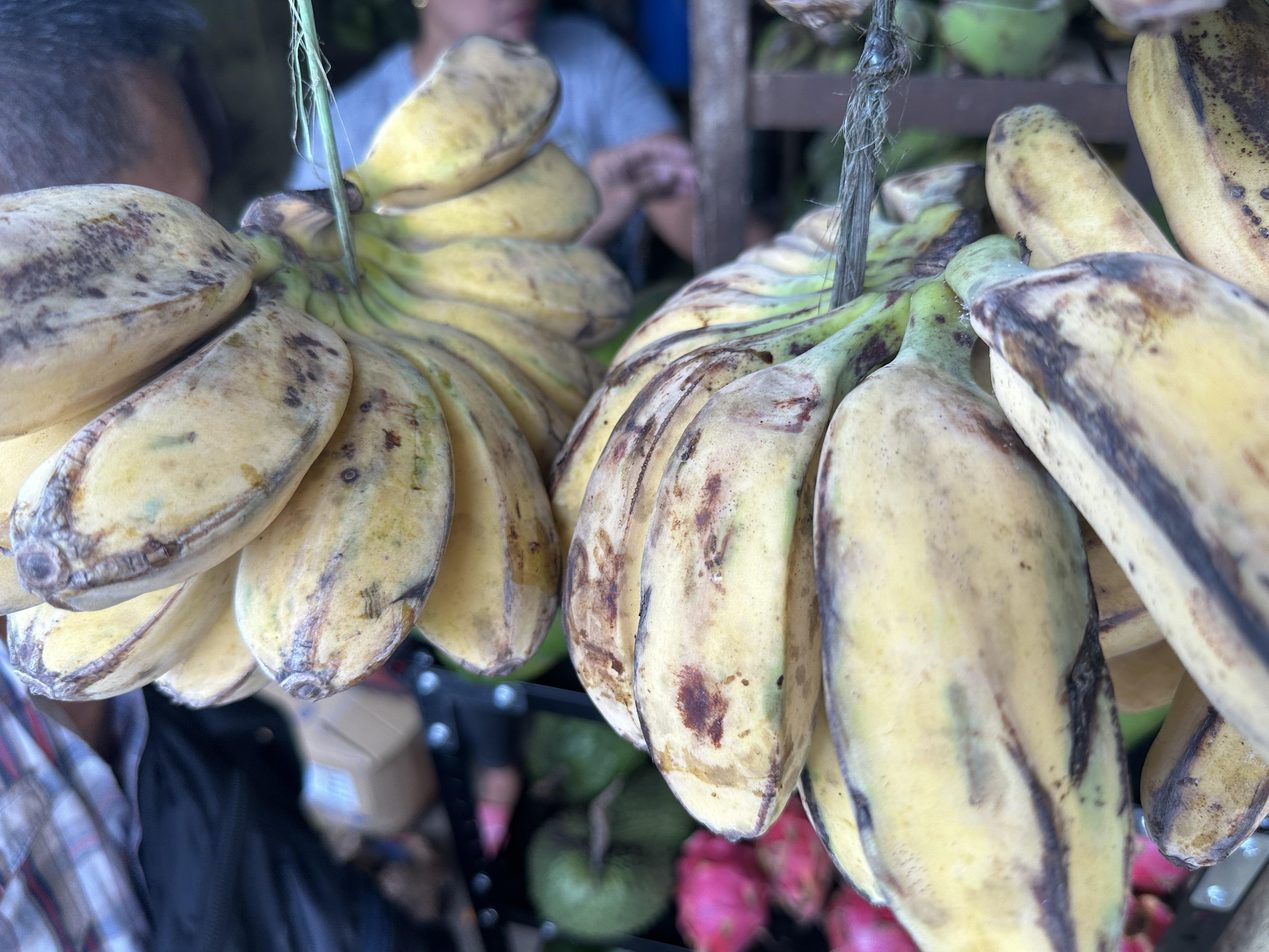ripe: (554, 164, 1269, 949)
underripe: (0, 36, 631, 705)
